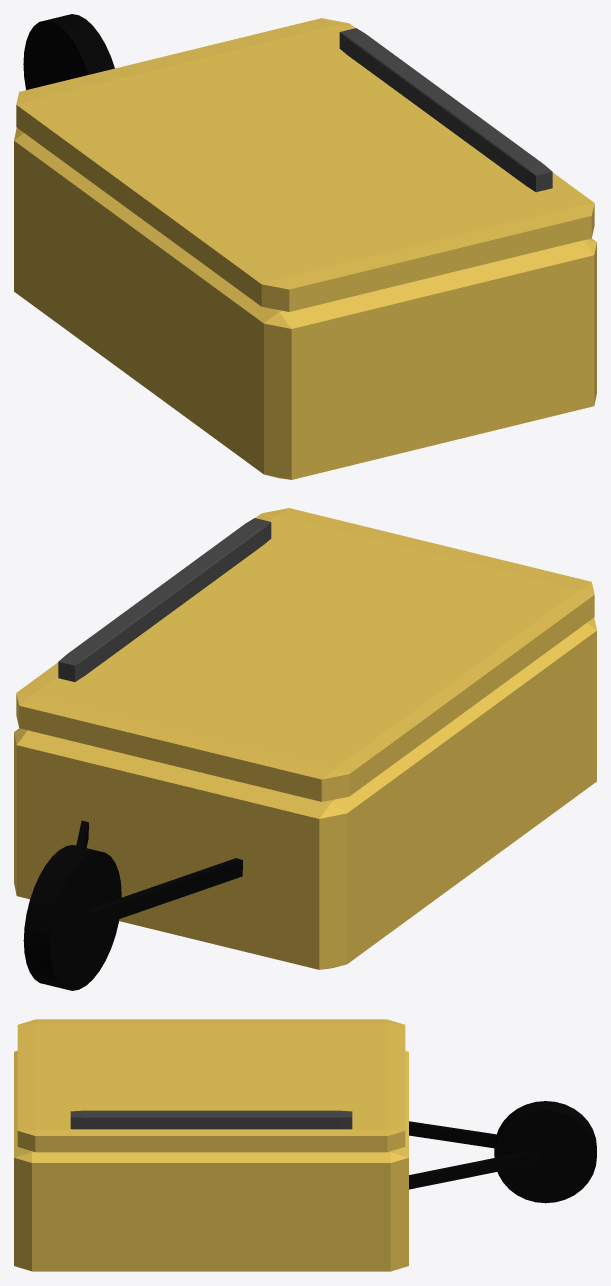
The model's file is small_fridge.glb.
3 renders of one model, top to bottom at view 1: azimuth 30°, elevation 25°; view 2: azimuth 150°, elevation 25°; view 3: azimuth 270°, elevation 25°, orthographic. The views are drawn at different scales.
Parts seen in each view (by area): view 1: Cube.035, Cube.031, Cube.032, Cylinder.007; view 2: Cube.031, Cube.035, Cylinder.007, Cube.032, Cube.033; view 3: Cube.035, Cube.031, Cylinder.007, Cube.032, Cube.034, Cube.033.
Part boxes in pixels (x1,y1,x2,y2): Cube.035: [14, 128, 596, 479]; Cube.031: [16, 18, 594, 311]; Cube.032: [339, 28, 552, 192]; Cylinder.007: [23, 14, 114, 89]; Cube.031: [16, 508, 594, 801]; Cube.035: [14, 618, 596, 969]; Cylinder.007: [23, 845, 121, 990]; Cube.032: [58, 518, 271, 681]; Cube.033: [84, 858, 242, 930]; Cube.035: [14, 1050, 408, 1271]; Cube.031: [17, 1019, 405, 1152]; Cylinder.007: [494, 1101, 596, 1203]; Cube.032: [70, 1110, 352, 1129]; Cube.034: [409, 1151, 540, 1189]; Cube.033: [409, 1121, 496, 1148].
Size of the model in its own units: 2.03 by 1.25 by 4.29.
